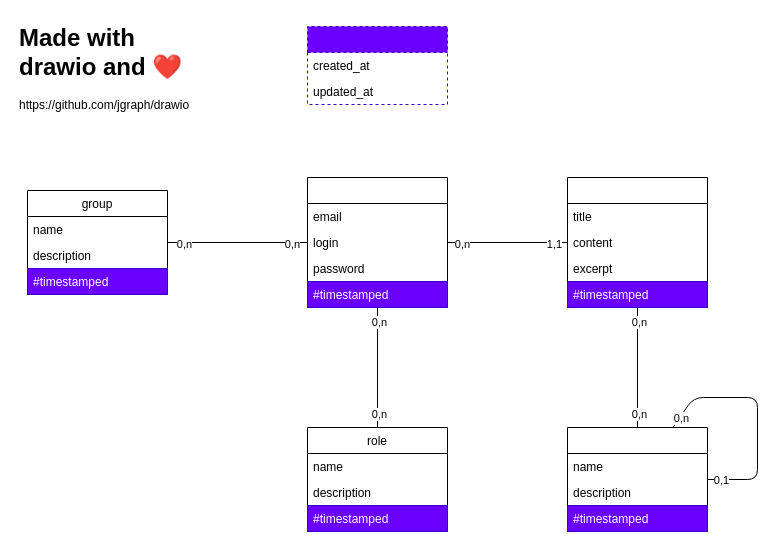
Some shapes in this 776 by 551 pixel diagram are drawn without their labels. Here are the shapes that lost their labels. From the top down, the box of each, then its label:
(306, 26, 448, 104): timestamped
(306, 176, 448, 308): user
(566, 176, 708, 308): article
(566, 426, 708, 532): category
